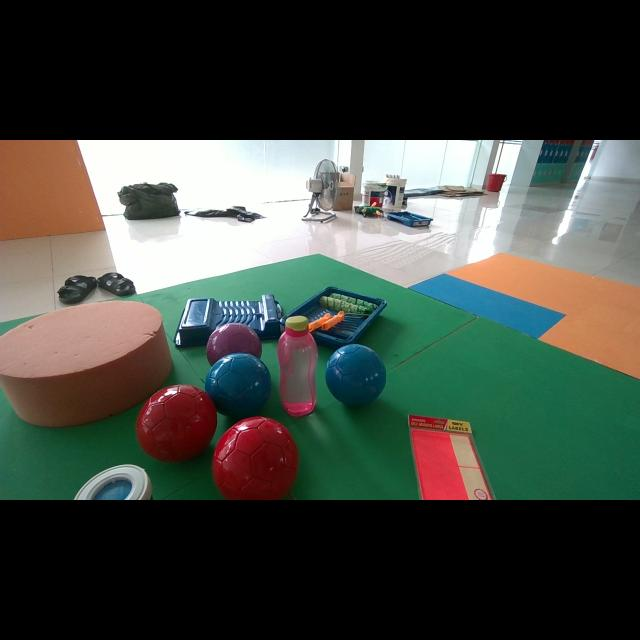B: (205, 352, 271, 419), (325, 344, 386, 406)
P: (206, 322, 261, 365)
R: (212, 416, 299, 499), (136, 385, 218, 462)
